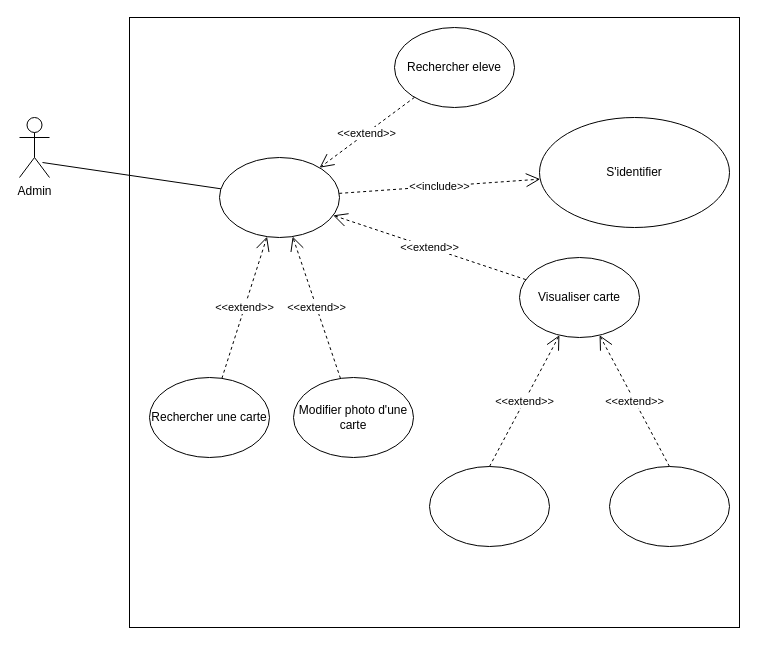
Some shapes in this 757 by 645 pixel diagram are drawn without their labels. The box of each missing label's shape, as (x1, y1, x2, y2) in pixels:
Désactiver/Activer une carte: (428, 466, 550, 546)
Lister les cartes: (218, 156, 340, 238)
Telecharger carte: (608, 466, 730, 546)
